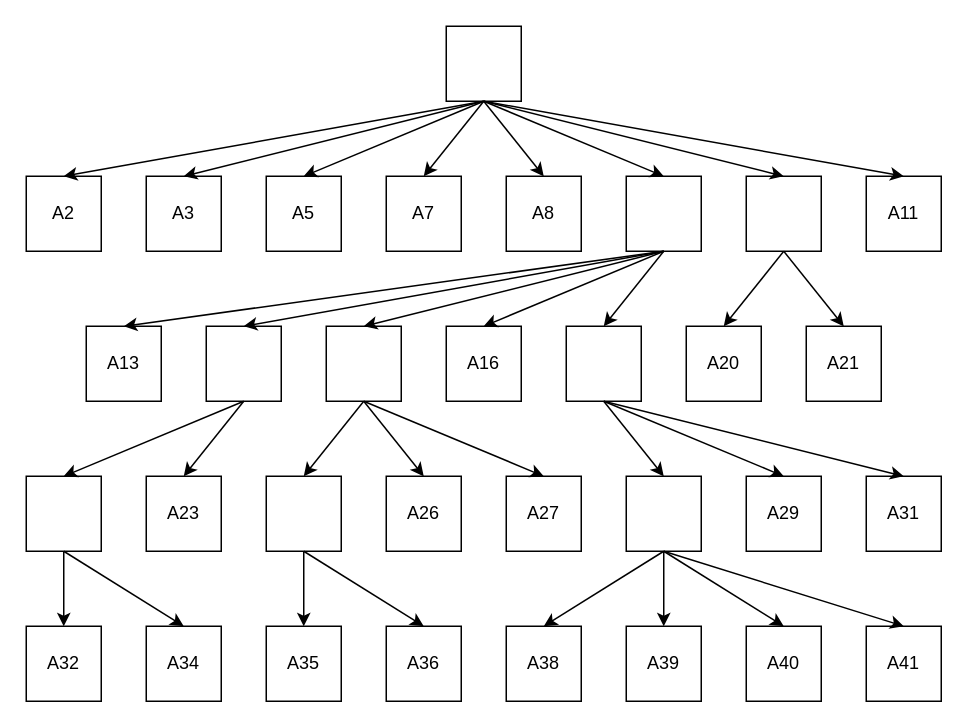
The diagram is 968 pixels wide and 728 high, and some of its shapes have lost their labels. Here are the shapes that lost their labels. From the top down, the box of each, then its label:
(445, 25, 521, 101): A1
(625, 175, 701, 251): A9
(745, 175, 821, 251): A10
(205, 325, 281, 401): A14
(325, 325, 401, 401): A15
(565, 325, 641, 401): A18
(25, 475, 101, 551): A22
(265, 475, 341, 551): A25
(625, 475, 701, 551): A28
